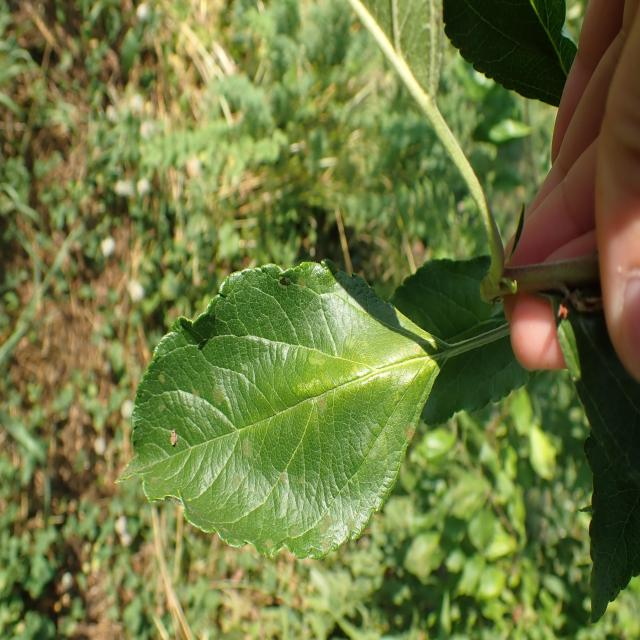scab: (130, 234, 424, 560)
